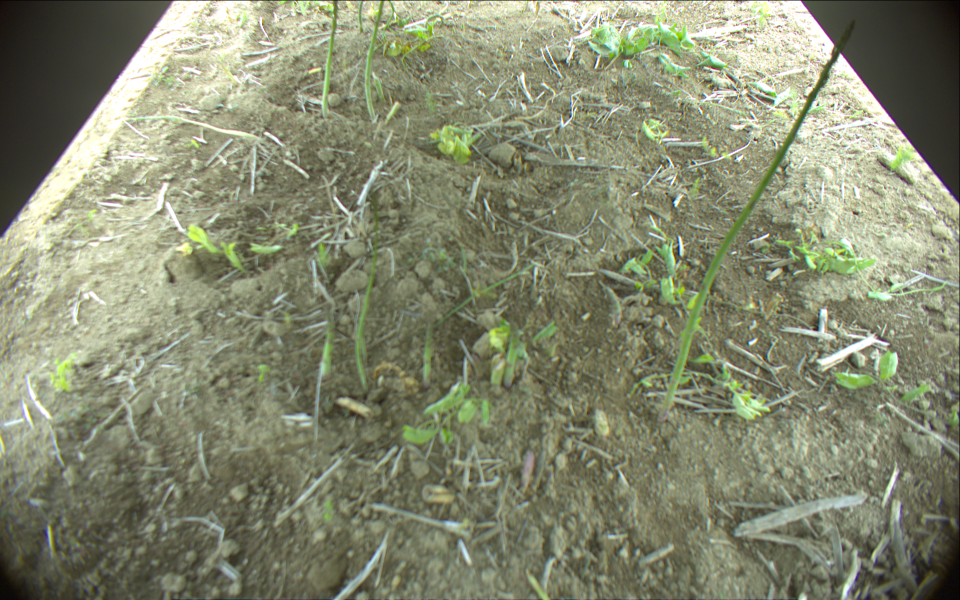aspa: (658, 19, 858, 424), (355, 195, 380, 392), (125, 114, 257, 143), (365, 1, 385, 121), (322, 1, 340, 118), (503, 332, 523, 389), (420, 320, 436, 384), (320, 314, 335, 379), (373, 72, 382, 105), (357, 1, 364, 30)
